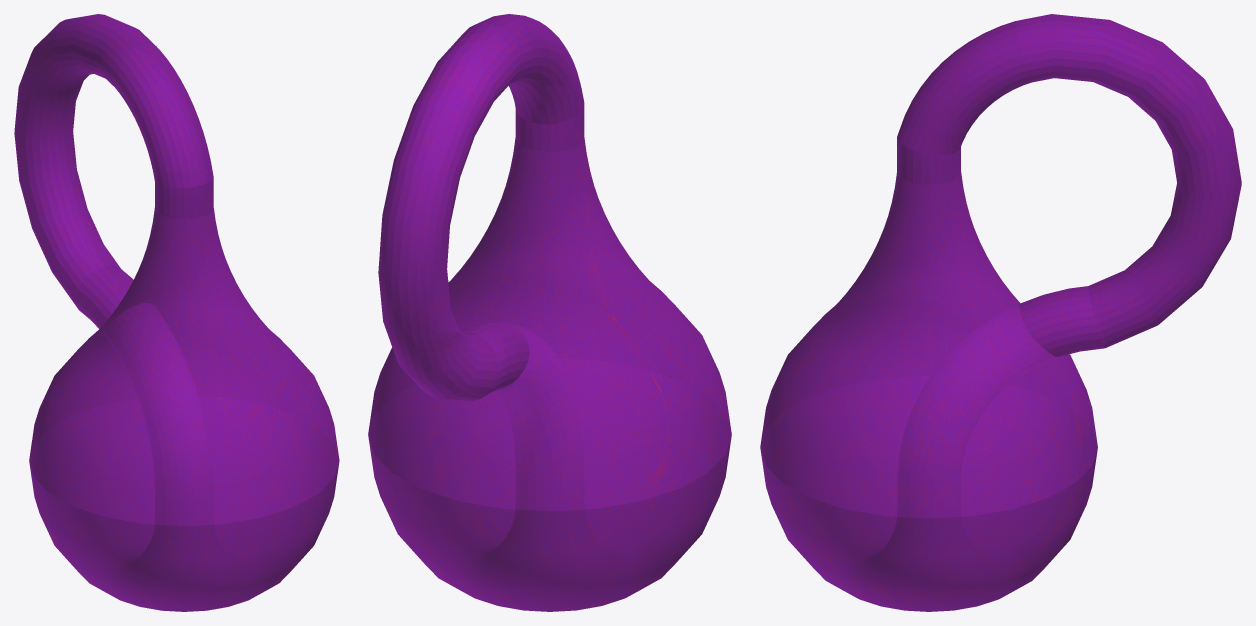
3 renders of one model, left to right at view 1: azimuth 30°, elevation 25°; view 2: azimuth 150°, elevation 25°; view 3: azimuth 270°, elevation 25°, orthographic. The views are drawn at different scales.
Visible parts, largest first — view 1: SketchUp; view 2: SketchUp; view 3: SketchUp.
Boxes of the visible parts, x1=… form: SketchUp: x1=14, y1=14, x2=339, y2=611; SketchUp: x1=368, y1=14, x2=731, y2=611; SketchUp: x1=760, y1=14, x2=1241, y2=611.
Size of the model in its own units: 380 by 542 by 690.
